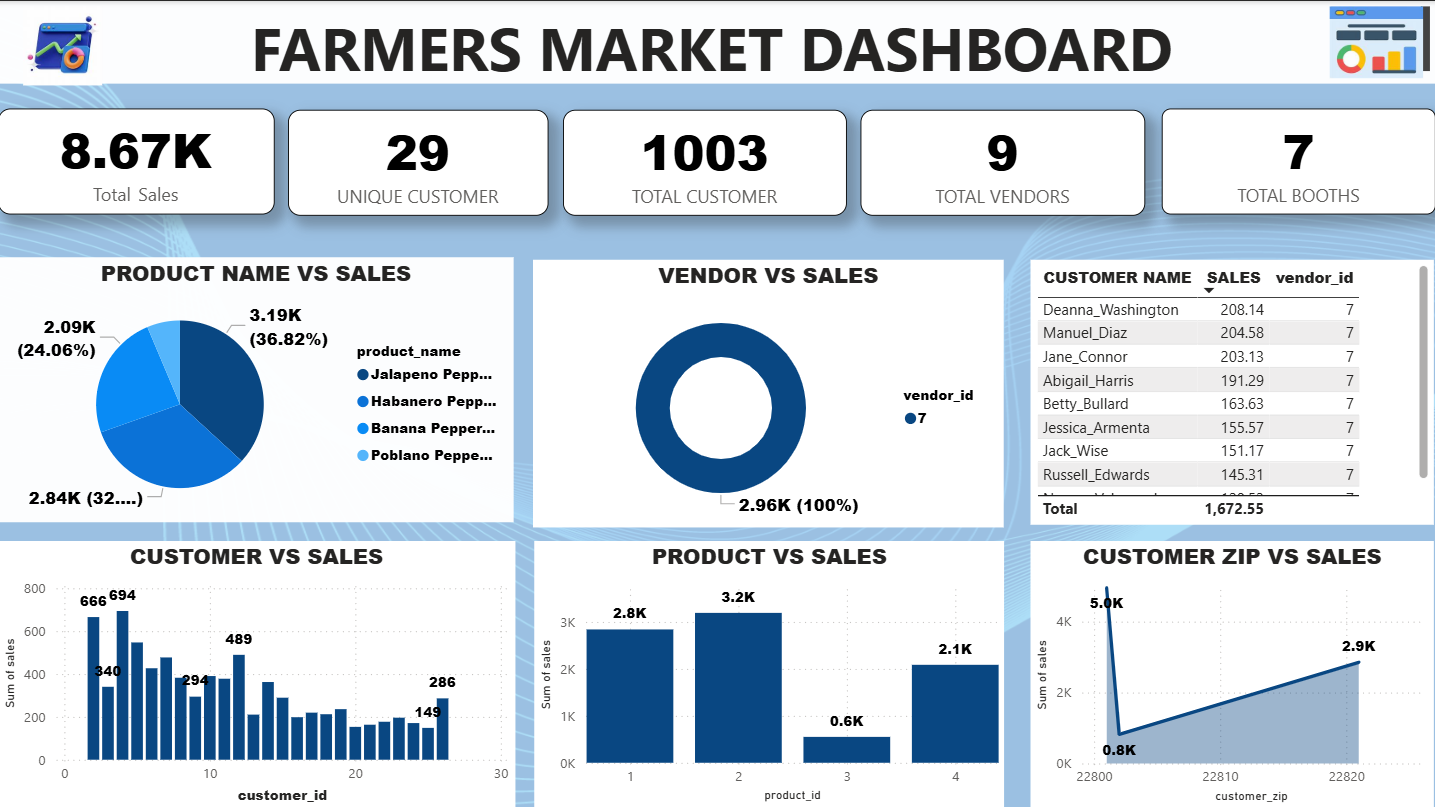

The page's visual inventory and layout, read from the dashboard file:
{"tool":"powerbi","page":{"name":"Duplicate of Quantity wise analysis","canvas":[1280,720],"ordinal":2},"visuals":[{"type":"columnChart","title":"CUSTOMER VS SALES","fields":{"Category":["customer_purchases.customer_id"],"Y":["customer_purchases.sales"]},"box":[0,481.2,460.4,239.6],"z":0},{"type":"clusteredColumnChart","title":"PRODUCT VS SALES","fields":{"Category":["product.product_id"],"Y":["customer_purchases.sales"]},"box":[477.1,481.2,418.8,237.5],"z":1000},{"type":"pieChart","title":"PRODUCT NAME VS SALES","fields":{"Category":["product.product_name"],"Y":["customer_purchases.sales"]},"box":[0,227.7,459.5,235.9],"z":2000},{"type":"donutChart","title":"VENDOR VS SALES","fields":{"Category":["customer_purchases.vendor_id"],"Y":["customer_purchases.quantity"]},"box":[476.2,231,419,238.1],"z":3000},{"type":"textbox","box":[0,0,1280,73.8],"z":4000},{"type":"image","box":[1175.8,0,104.4,73.6],"z":5000},{"type":"image","box":[0,0,114.3,80.2],"z":6000},{"type":"card","fields":{"Values":["customer.Total_Sales"]},"box":[0,96,246,94],"z":7000},{"type":"card","fields":{"Values":["customer_purchases.customer_id"]},"box":[258.2,96.7,231.9,94.5],"z":8000},{"type":"card","fields":{"Values":["customer_purchases.customer_id"]},"box":[503.3,96.7,252.7,94.5],"z":9000},{"type":"card","fields":{"Values":["vendor.vendor_id"]},"box":[768.1,96.7,253.8,94.5],"z":10000},{"type":"card","fields":{"Values":["vendor_booth_assignments.booth_number"]},"box":[1036.3,95.6,244,94.5],"z":11000},{"type":"tableEx","fields":{"Values":["customer.Customer_FULL_Name","customer_purchases.quantity","customer_purchases.vendor_id"]},"box":[919,231,359.5,235.7],"z":12000},{"type":"areaChart","title":"CUSTOMER ZIP VS SALES","fields":{"Category":["customer.customer_zip"],"Y":["customer_purchases.sales"]},"box":[919,481,359.5,238.1],"z":13000},{"type":"actionButton","box":[0,0,100,40],"z":14000}]}

Visuals, with their boxes in screenshot pixels (x1, y1, x2, y2), scaled from the page's 1280x720 canvas onto the 1435x807 screenshot:
"CUSTOMER VS SALES" columnChart: Rect(0, 539, 516, 806)
"PRODUCT VS SALES" clusteredColumnChart: Rect(535, 539, 1004, 806)
"PRODUCT NAME VS SALES" pieChart: Rect(0, 255, 515, 520)
"VENDOR VS SALES" donutChart: Rect(534, 259, 1004, 526)
textbox: Rect(0, 0, 1434, 83)
image: Rect(1318, 0, 1434, 82)
image: Rect(0, 0, 128, 90)
card - customer.Total_Sales: Rect(0, 108, 276, 213)
card - customer_purchases.customer_id: Rect(289, 108, 549, 214)
card - customer_purchases.customer_id: Rect(564, 108, 848, 214)
card - vendor.vendor_id: Rect(861, 108, 1146, 214)
card - vendor_booth_assignments.booth_number: Rect(1162, 107, 1434, 213)
tableEx - customer.Customer_FULL_Name x customer_purchases.quantity: Rect(1030, 259, 1433, 523)
"CUSTOMER ZIP VS SALES" areaChart: Rect(1030, 539, 1433, 806)
actionButton: Rect(0, 0, 112, 45)
